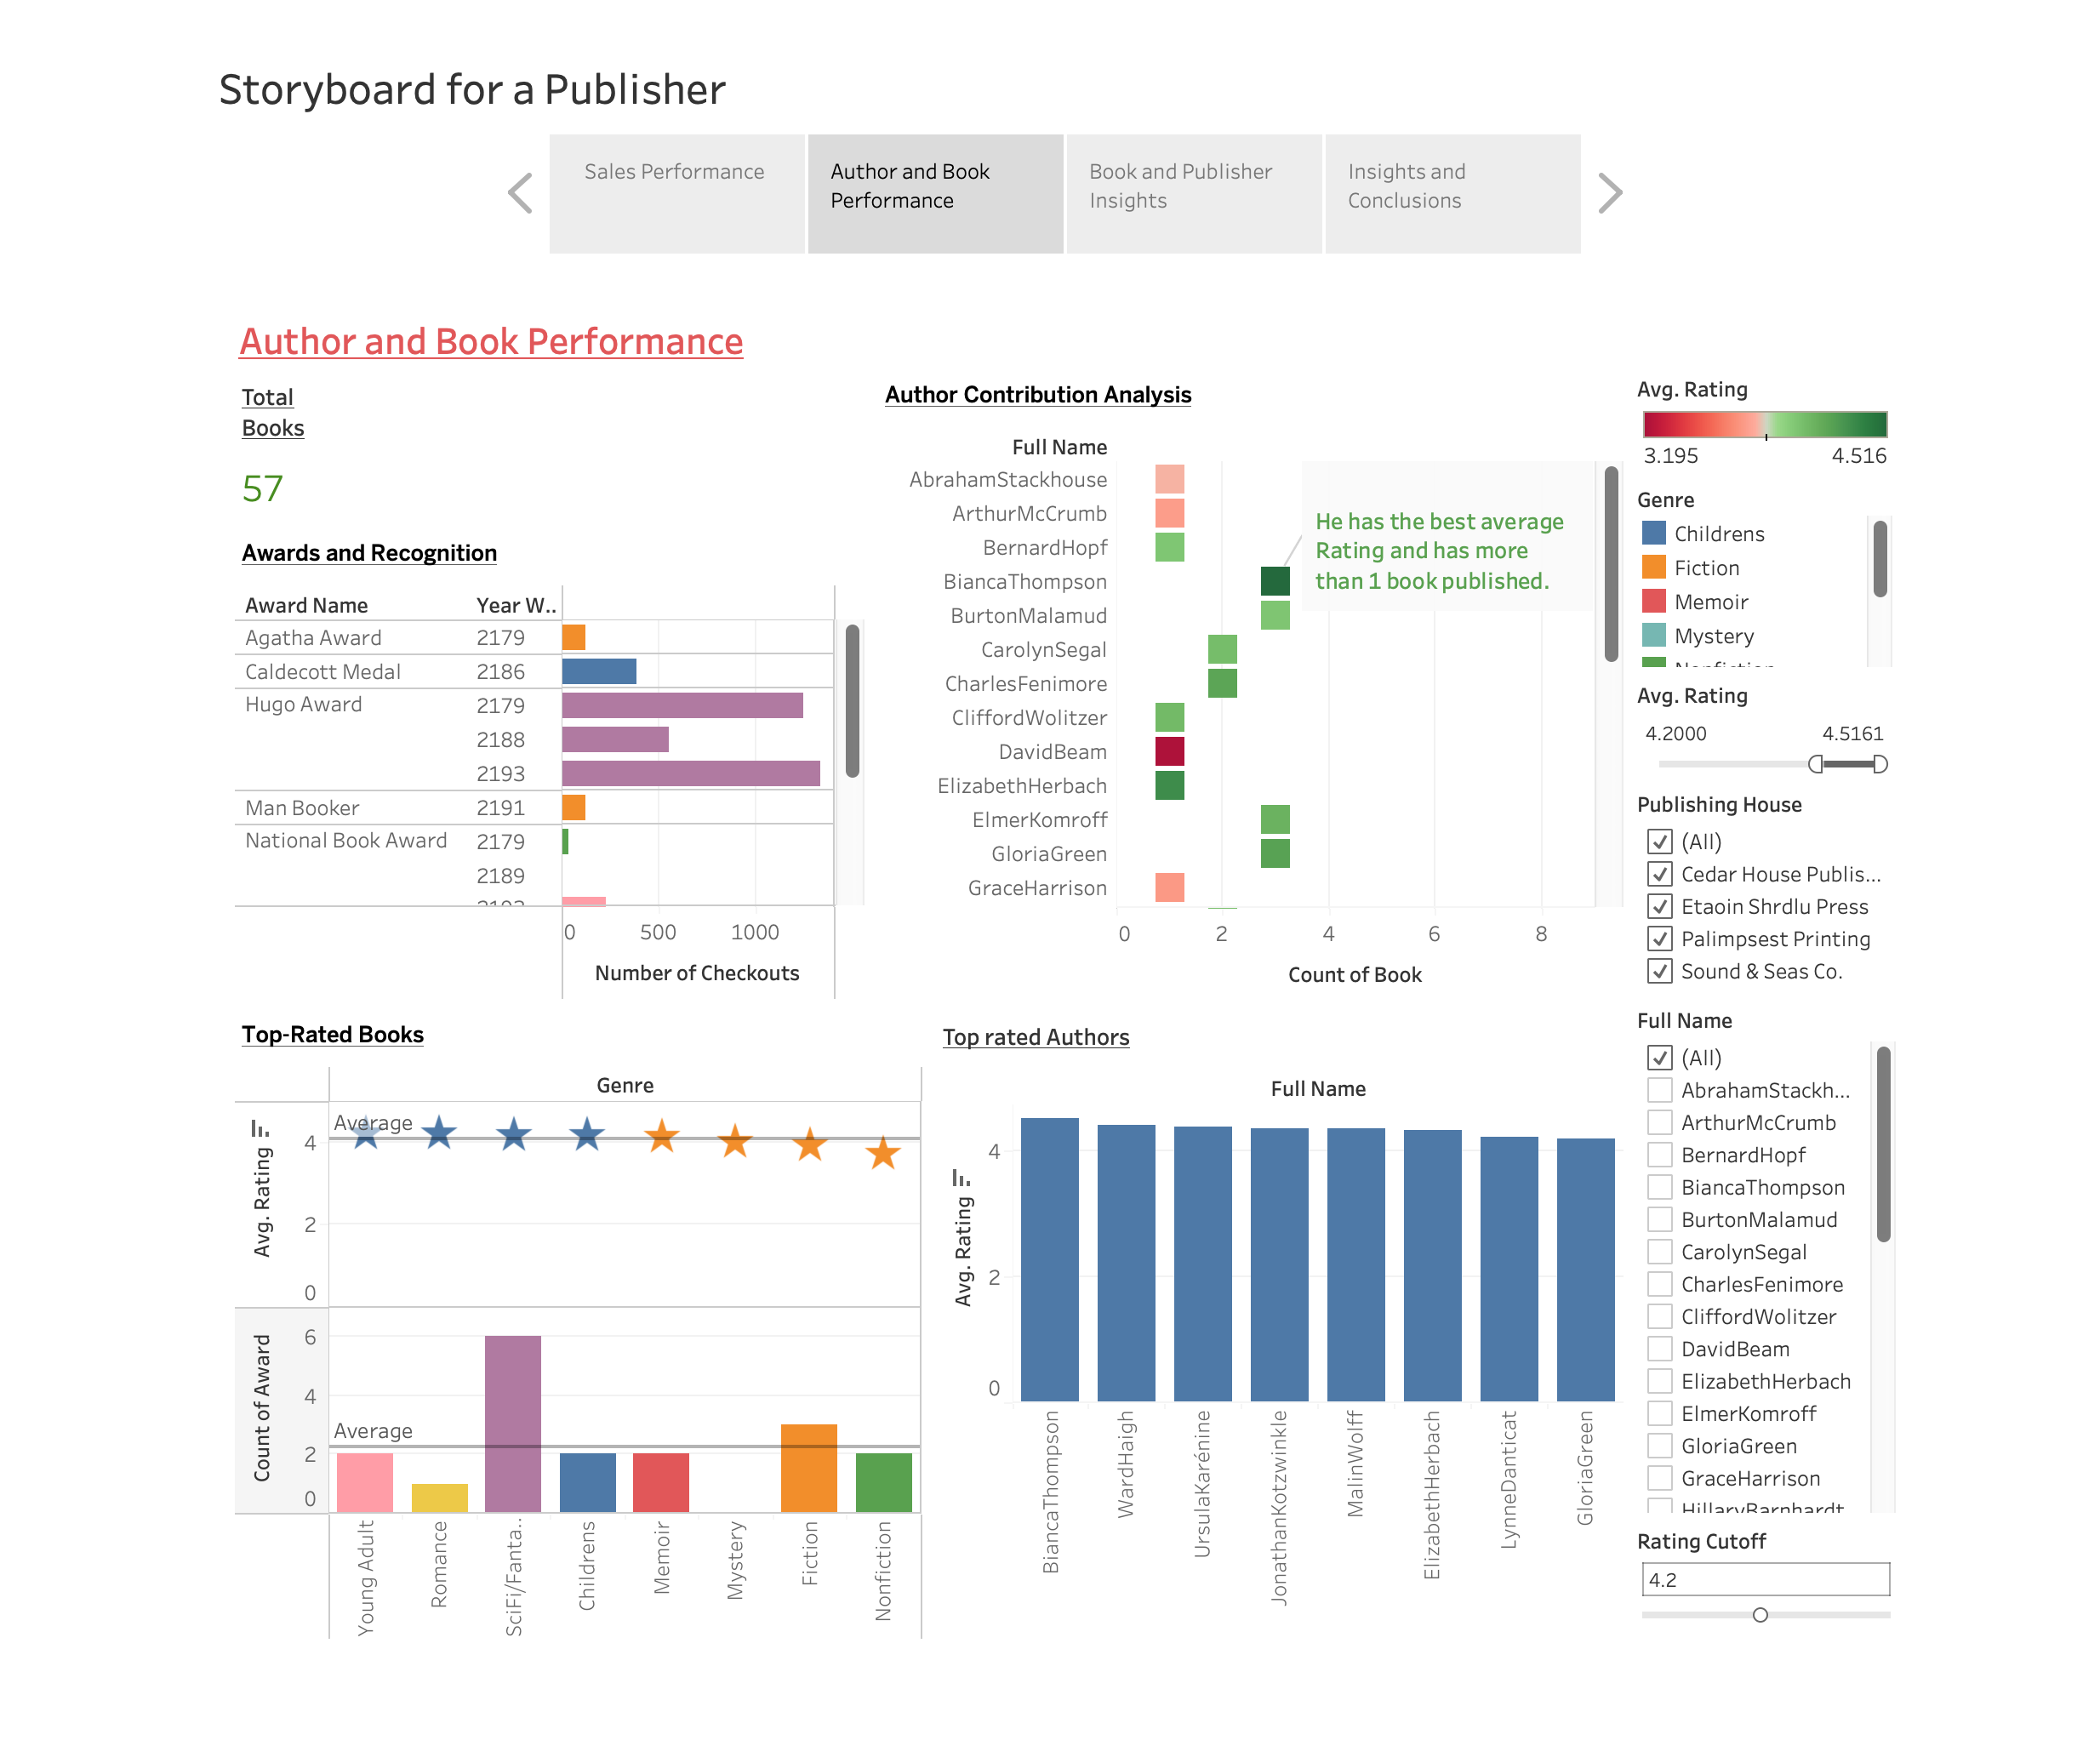

Layout of this report page (visuals, bound fields, positions):
{"tool":"tableau","page":{"name":"Author and Book Performance","canvas":[1000,800],"ordinal":1},"visuals":[{"type":"text","box":[8,8,984,32]},{"type":"worksheet","title":"Total Books","mark":"Automatic","box":[8,40,378,93]},{"type":"worksheet","title":"Author Contribution Analysis","mark":"Square","rows":["Calculation_3561643639935741952"],"cols":["Book_E0BCFB1B743B4571BFE9F63514A2C2CE"],"box":[386,40,446,376]},{"type":"legend","title":"Author Contribution Analysis","param":"[federated.1d4atnk1624dz61g01vsp0x62ex3].[avg:Rating:qk]","box":[832,40,160,65]},{"type":"legend","title":"Top-Rated Books","param":"[federated.1d4atnk1624dz61g01vsp0x62ex3].[none:Genre:nk]","box":[832,105,160,115]},{"type":"worksheet","title":"Awards and Recognition","mark":"Automatic","rows":["Award Name","Year Won"],"cols":["Number of Checkouts"],"box":[8,133,378,283]},{"type":"filter","title":"Author and their Rating","param":"[federated.1d4atnk1624dz61g01vsp0x62ex3].[avg:Rating:qk]","box":[832,220,160,64]},{"type":"filter","title":"Top-Rated Books","param":"[federated.1d4atnk1624dz61g01vsp0x62ex3].[none:Publishing House:nk]","box":[832,284,160,127]},{"type":"filter","title":"Author and their Rating","param":"[federated.1d4atnk1624dz61g01vsp0x62ex3].[none:Calculation_3561643639935741952:n","box":[832,411,160,306]},{"type":"worksheet","title":"Top-Rated Books","mark":"Automatic","rows":["Rating","Award_B018972FC92748CEAECF7108FC5AD15E"],"cols":["Genre"],"box":[8,416,412,376]},{"type":"worksheet","title":"Author and their Rating","mark":"Automatic","rows":["Rating"],"cols":["Calculation_3561643639935741952"],"box":[420,416,412,376]},{"type":"parameter","param":"[Parameters].[Parameter 1]","box":[832,717,160,75]}]}

Visuals, with their boxes on the page's 1000x800 design canvas (x1, y1, x2, y2). These are canvas units, not pixel positions in the 2100x1746 screenshot, which may show the page scaled, cropped or inside an application window:
text: <bbox>8, 8, 992, 40</bbox>
"Total Books" worksheet: <bbox>8, 40, 386, 133</bbox>
"Author Contribution Analysis" worksheet (Square marks): <bbox>386, 40, 832, 416</bbox>
"Author Contribution Analysis" legend: <bbox>832, 40, 992, 105</bbox>
"Top-Rated Books" legend: <bbox>832, 105, 992, 220</bbox>
"Awards and Recognition" worksheet: <bbox>8, 133, 386, 416</bbox>
"Author and their Rating" filter: <bbox>832, 220, 992, 284</bbox>
"Top-Rated Books" filter: <bbox>832, 284, 992, 411</bbox>
"Author and their Rating" filter: <bbox>832, 411, 992, 717</bbox>
"Top-Rated Books" worksheet: <bbox>8, 416, 420, 792</bbox>
"Author and their Rating" worksheet: <bbox>420, 416, 832, 792</bbox>
parameter: <bbox>832, 717, 992, 792</bbox>
